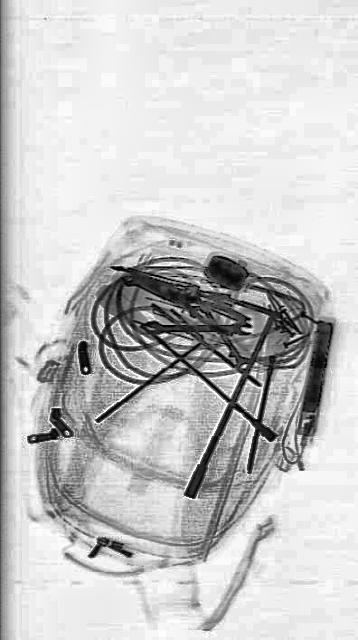Wrench: (179, 274, 251, 380), (141, 318, 250, 334)
